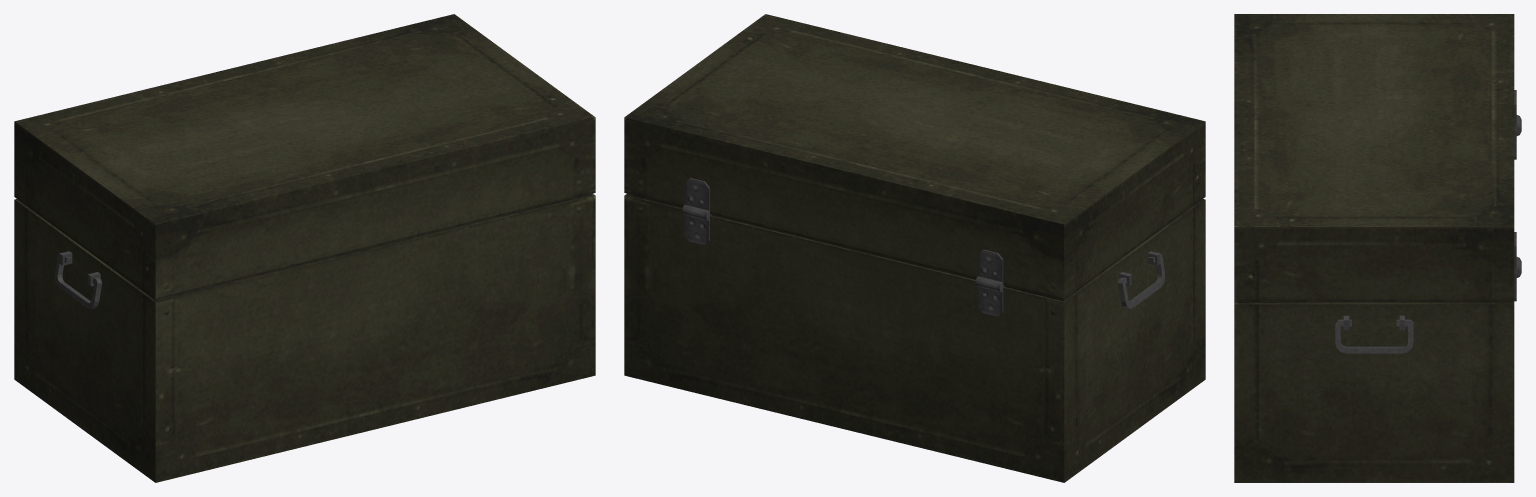
File: wooden_crate_2_a.obj
The picture shows the model from 3 angles, left to right: view 1: azimuth 30°, elevation 25°; view 2: azimuth 150°, elevation 25°; view 3: azimuth 270°, elevation 25°; orthographic projection.
Parts seen in each view (by area): view 1: wooden_crate_2_a, wooden_crate_2_a_lid; view 2: wooden_crate_2_a, wooden_crate_2_a_lid; view 3: wooden_crate_2_a_lid, wooden_crate_2_a.
Part boxes in pixels (left/top/right/bottom): wooden_crate_2_a: left=14, top=193, right=595, bottom=482; wooden_crate_2_a_lid: left=14, top=14, right=595, bottom=300; wooden_crate_2_a: left=624, top=193, right=1205, bottom=482; wooden_crate_2_a_lid: left=624, top=14, right=1205, bottom=300; wooden_crate_2_a_lid: left=1234, top=14, right=1516, bottom=303; wooden_crate_2_a: left=1234, top=115, right=1521, bottom=482.
Bounding box in the file's own units: 0.9492 × 0.505 × 0.513.
